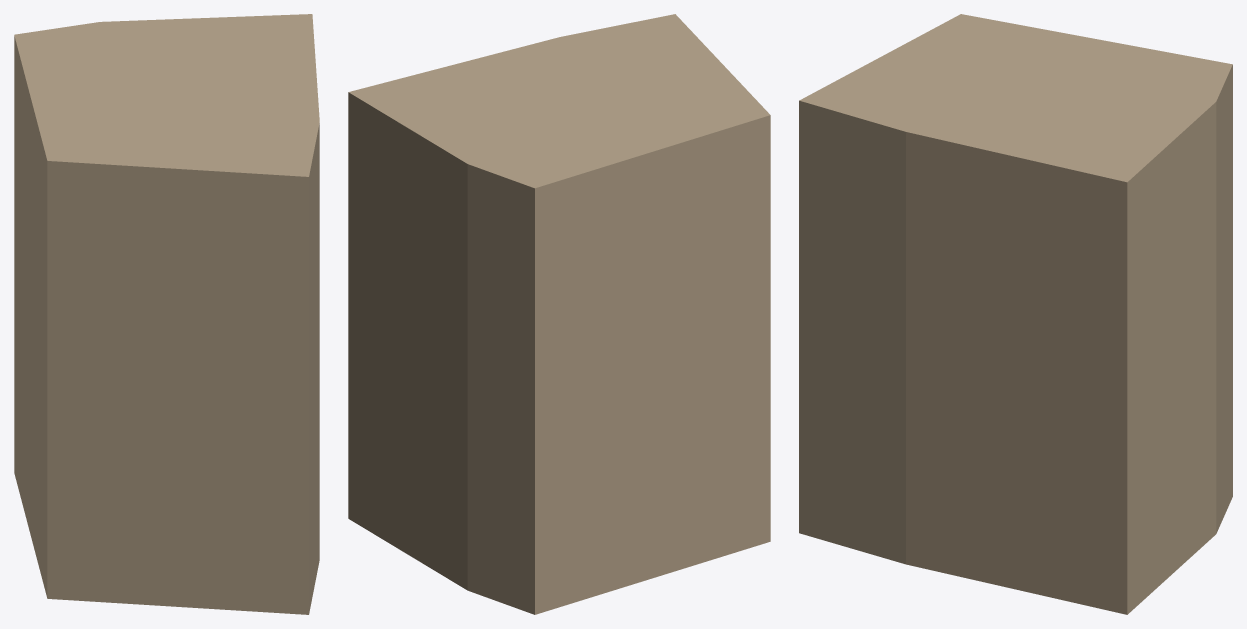
The model's file is bld_99519871.dae.
3 views of the same model, side by side, from view 1: azimuth 30°, elevation 25°; view 2: azimuth 150°, elevation 25°; view 3: azimuth 270°, elevation 25° (orthographic). The views are drawn at different scales.
Parts seen in each view (by area): view 1: bld_99519871; view 2: bld_99519871; view 3: bld_99519871.
Part boxes in pixels (x1,y1,x2,y2): bld_99519871: [14, 14, 319, 614]; bld_99519871: [348, 14, 770, 614]; bld_99519871: [799, 14, 1232, 614].
Size of the model in its own units: 6.68 by 7.27 by 8.
